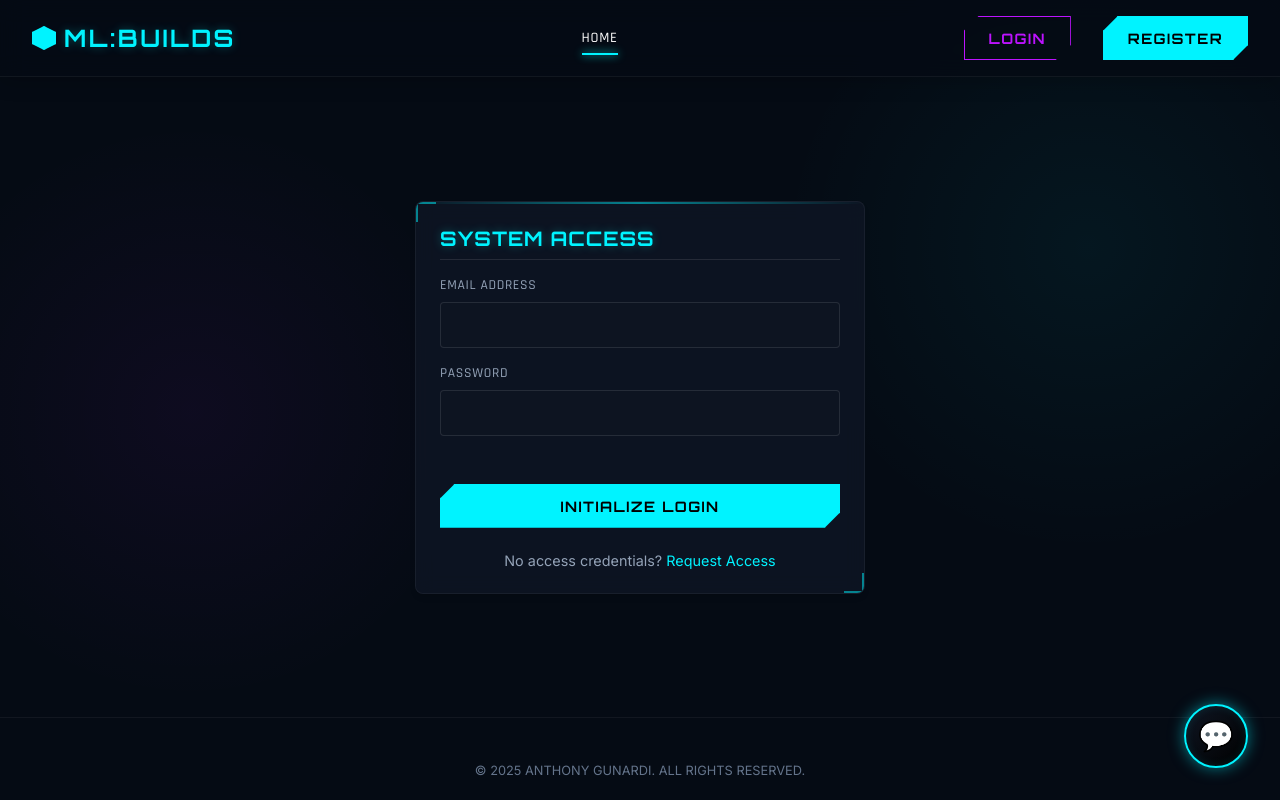
Test: LoginPage › displays error message on login failure
Type "user@test.com" into the field labelled "Email Address" at [640, 324], box [440,302,840,348]
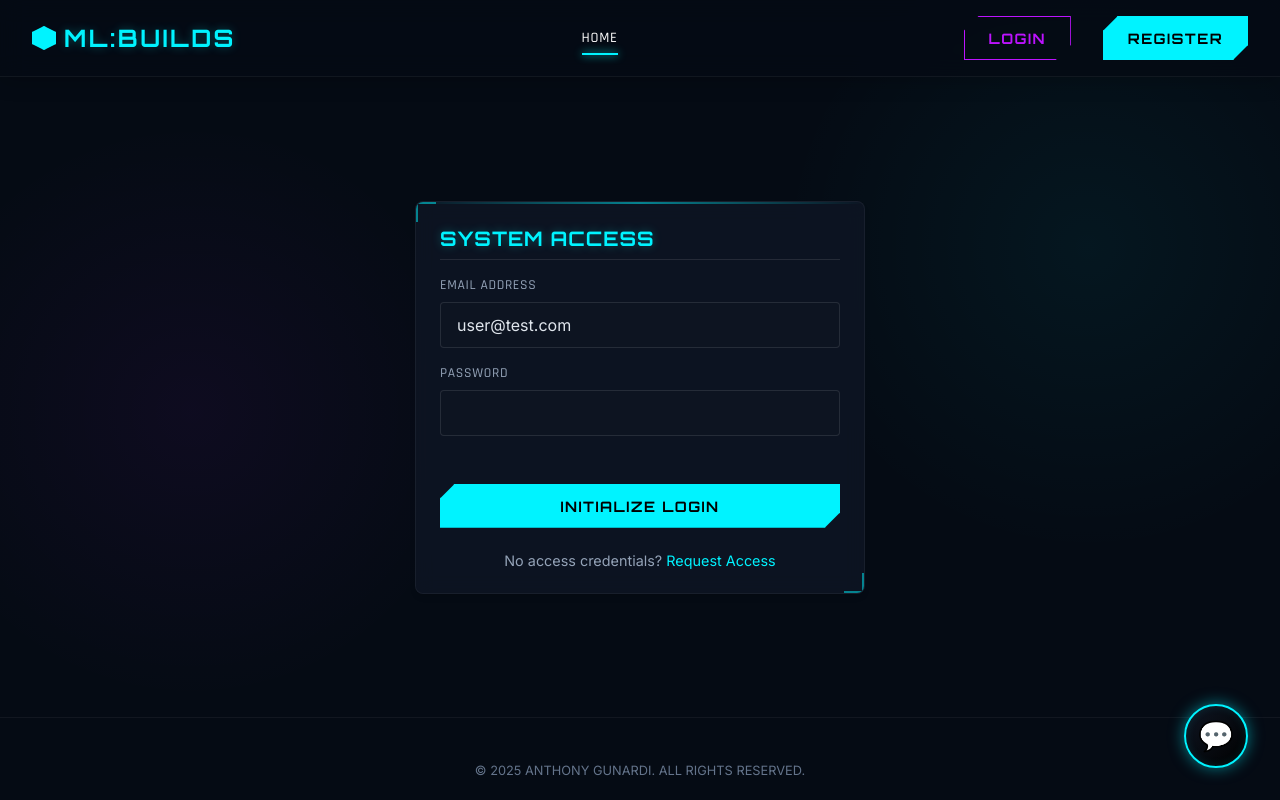
Type "password" into the password field labelled "Password" at [640, 412], box [440,390,840,436]
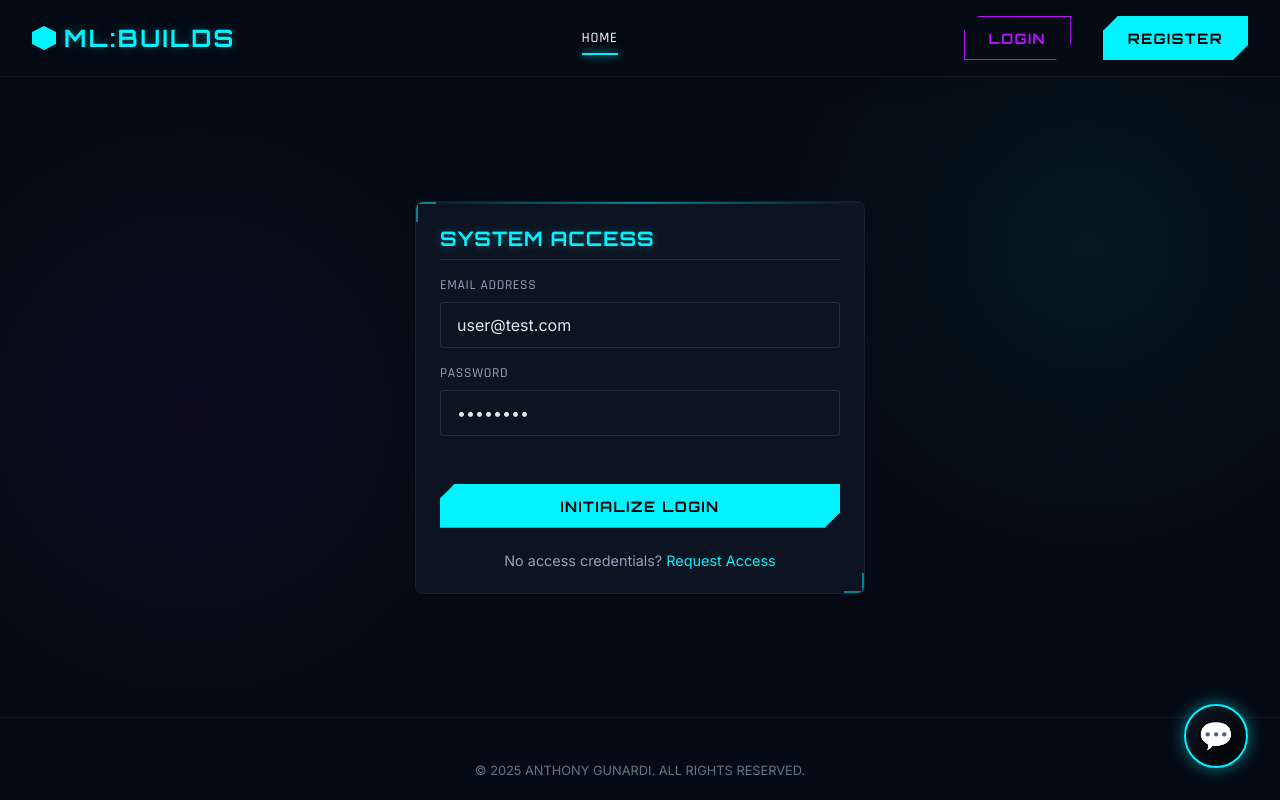
Click the button "Initialize Login" at [640, 506], box [440,484,840,528]
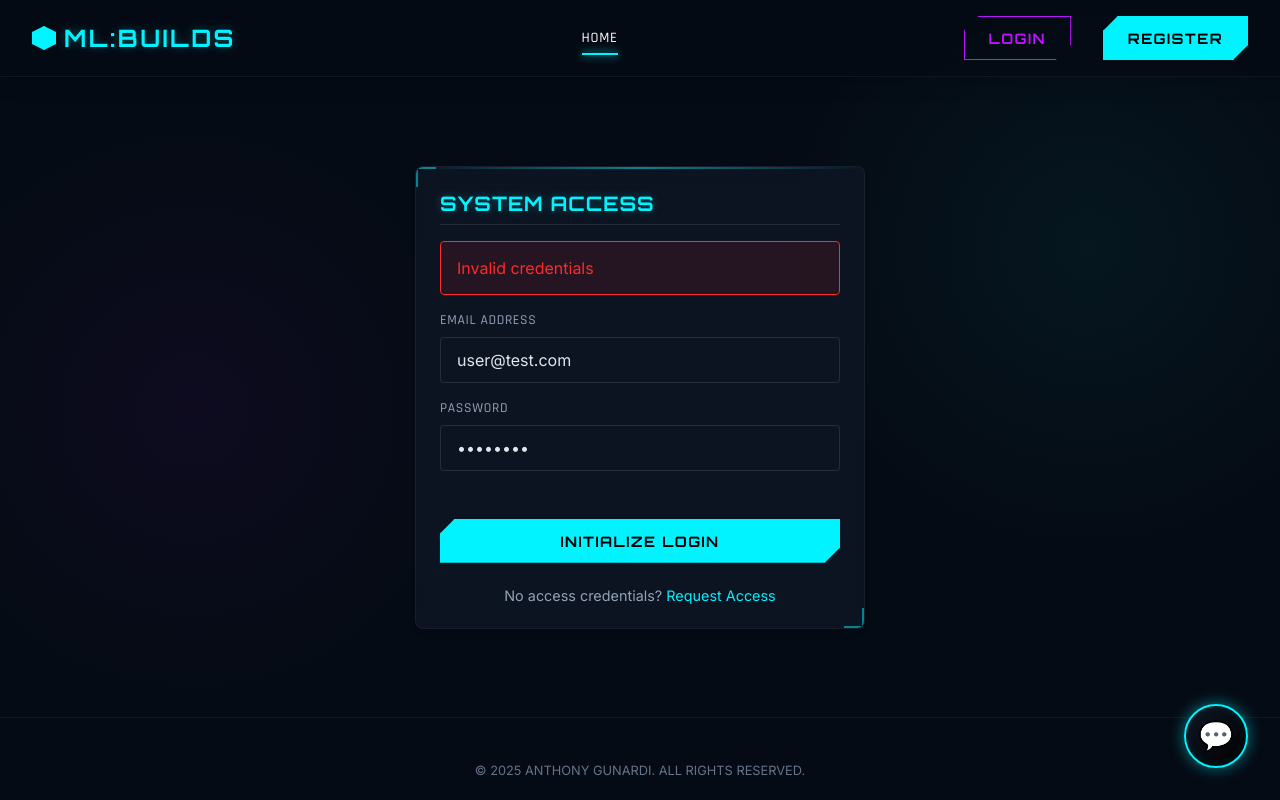
Check: the text "Invalid credentials" is shown, box [440,240,840,294]
